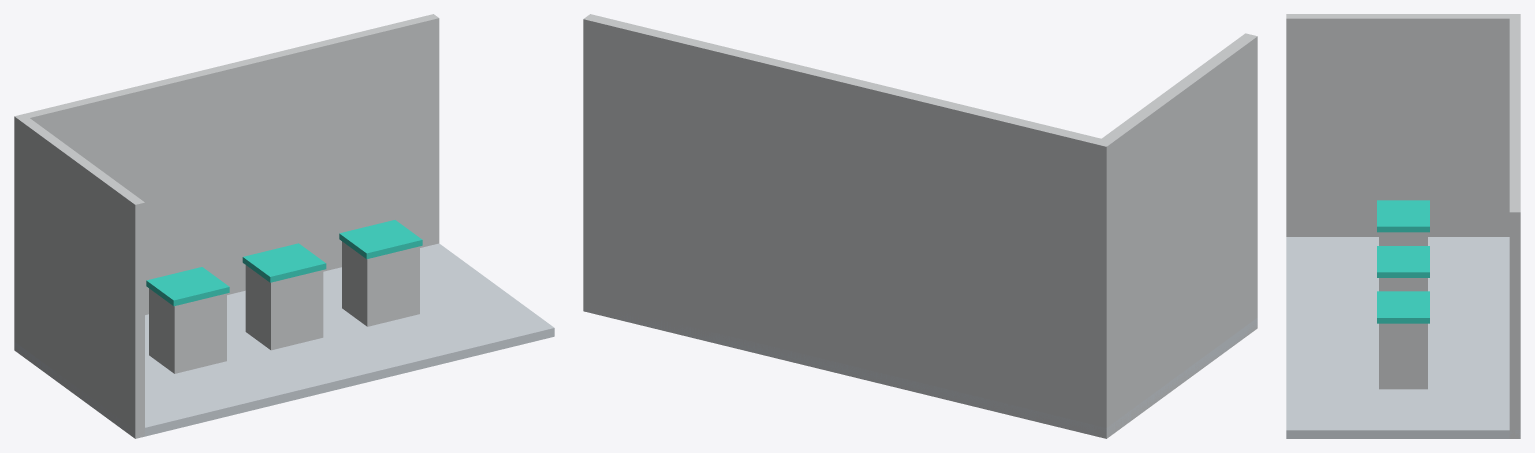
3 renders of one model, left to right at view 1: azimuth 30°, elevation 25°; view 2: azimuth 150°, elevation 25°; view 3: azimuth 270°, elevation 25°, orthographic. The views are drawn at different scales.
Visible parts, largest first — view 1: Exhibition Booth Concept; view 2: Exhibition Booth Concept; view 3: Exhibition Booth Concept.
Boxes of the visible parts, box(x1,y1,x2,y2) form: Exhibition Booth Concept: box(14, 14, 554, 438); Exhibition Booth Concept: box(583, 14, 1257, 438); Exhibition Booth Concept: box(1286, 14, 1520, 438).
Size of the model in its own units: 6 by 3.2 by 3.
